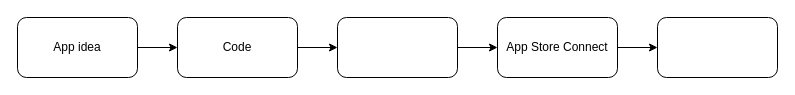
Image size: 795x95. Some labels were removed from this diagram. The shapes that lost their labels are listed below. From the top down, each one's centre as x and y in pixels, then its label:
point (397, 47): Apple developer portal
point (717, 47): App Store
